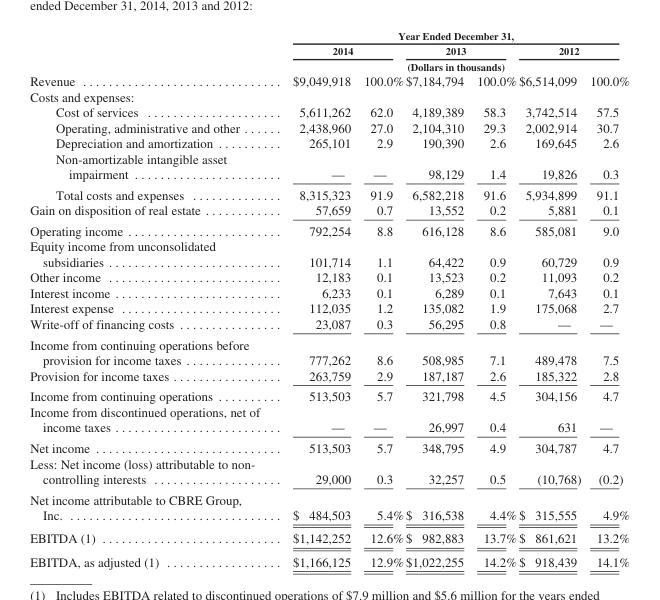table: (29, 28, 629, 568)
table column: (29, 28, 275, 568), (275, 28, 356, 568), (517, 28, 584, 568), (404, 28, 469, 568), (356, 28, 404, 568), (469, 28, 517, 568), (584, 28, 629, 568)
table column header: (29, 28, 629, 88)
table projected row header: (29, 88, 629, 103)
table row: (29, 488, 629, 526), (29, 150, 629, 184), (29, 333, 629, 367), (29, 403, 629, 437), (29, 455, 629, 488), (29, 238, 629, 269), (29, 526, 629, 549), (29, 549, 629, 568), (29, 184, 629, 202), (29, 202, 629, 220), (29, 220, 629, 238), (29, 315, 629, 333), (29, 367, 629, 385), (29, 385, 629, 403), (29, 437, 629, 455), (29, 42, 629, 58), (29, 72, 629, 88), (29, 103, 629, 119), (29, 134, 629, 150), (29, 284, 629, 300), (29, 88, 629, 103), (29, 119, 629, 134), (29, 269, 629, 284), (29, 300, 629, 315), (29, 28, 629, 42), (29, 58, 629, 72)
table spanning cell: (29, 28, 275, 88), (275, 28, 629, 42), (275, 58, 629, 72), (275, 42, 404, 58), (404, 42, 517, 58), (517, 42, 629, 58)
